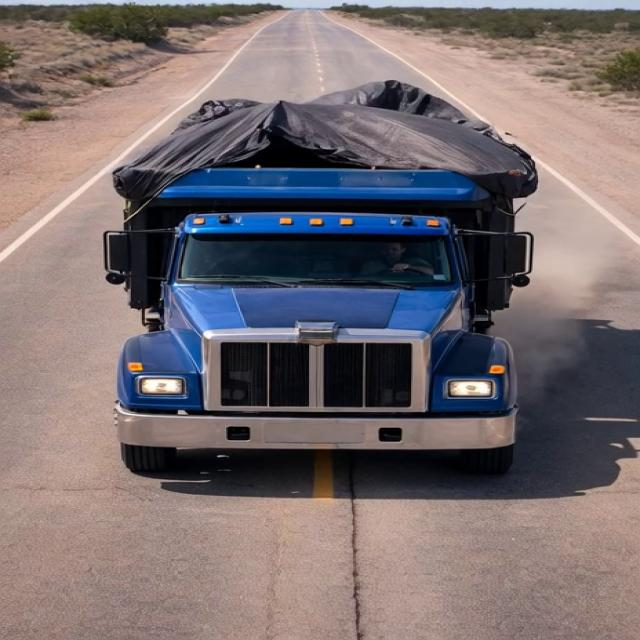trailer: (112, 81, 556, 196)
truck: (69, 62, 559, 476)
